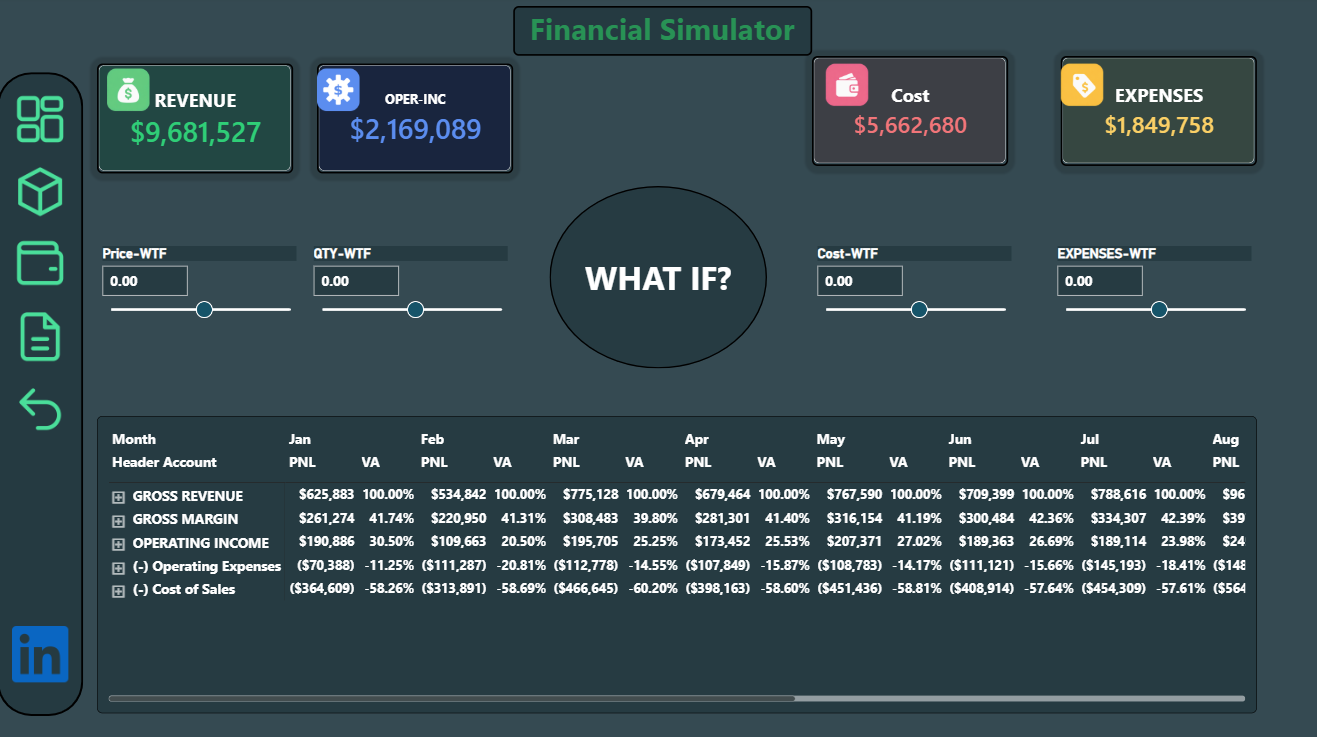

This screenshot's page, from the dashboard's own definition file:
{"tool":"powerbi","page":{"name":"Financial Simulator","canvas":[1920,1080],"ordinal":4},"visuals":[{"type":"pivotTable","fields":{"Columns":["Calendar.Month"],"Rows":["dAccountHeader.Header Account","dAccount.Subheader Account","dAccount.Detailed Account"],"Values":["ExpensesAnalysis Measures.PNL","ExpensesAnalysis Measures.VA"]},"box":[144.8,608,1679.4,430.7],"z":0},{"type":"slicer","fields":{"Values":["Price-WTF.Price-WTF"]},"box":[144.8,361.9,296.8,150.2],"z":1000},{"type":"slicer","fields":{"Values":["QTY-WTF.QTY-WTF"]},"box":[450.6,361.9,296.8,150.2],"z":2000},{"type":"slicer","fields":{"Values":["Cost-WTF.Cost-WTF"]},"box":[1179.9,361.9,296.8,150.2],"z":3000},{"type":"slicer","fields":{"Values":["EXPENSES-WTF.EXPENSES-WTF"]},"box":[1527.4,361.9,296.8,150.2],"z":4000},{"type":"shape","box":[799.9,275.1,314.9,264.2],"z":5000},{"type":"cardVisual","fields":{"Data":["WTF-CAL.OPER-INCEOME-WTF"]},"box":[463.3,97.7,284.1,159.3],"z":6000},{"type":"cardVisual","fields":{"Data":["WTF-CAL.Cost-WTF"]},"box":[1179.9,86.9,284.1,159.3],"z":7000},{"type":"cardVisual","fields":{"Data":["WTF-CAL.REVENUE-WTF"]},"box":[144.8,97.7,284.1,159.3],"z":8000},{"type":"cardVisual","fields":{"Data":["WTF-CAL.EXPENSES-WTF"]},"box":[1540,86.9,284.1,159.3],"z":9000},{"type":"image","box":[159.3,105,61.5,61.5],"z":10000},{"type":"image","box":[463.3,105,61.5,61.5],"z":11000},{"type":"image","box":[1199.1,97,61.5,61.5],"z":12000},{"type":"image","box":[1540,97.7,61.5,61.5],"z":13000},{"type":"shape","box":[0,110.4,124.9,932],"z":14000},{"type":"image","box":[21.7,912.1,81.4,81.4],"z":15000},{"type":"image","box":[21.7,137.5,81.4,81.4],"z":16000},{"type":"image","box":[21.7,242.5,81.4,81.4],"z":17000},{"type":"image","box":[21.7,347.5,81.4,81.4],"z":18000},{"type":"image","box":[21.7,452.4,81.4,81.4],"z":19000},{"type":"image","box":[21.7,557.4,81.4,81.4],"z":20000},{"type":"textbox","box":[747.4,14.5,432.5,72.4],"z":20001}]}

Visuals, with their boxes on the page's 1920x1080 design canvas (x1, y1, x2, y2). These are canvas units, not pixel positions in the 1317x737 screenshot, which may show the page scaled, cropped or inside an application window:
pivotTable - Calendar.Month x dAccountHeader.Header Account: (left=145, top=608, right=1824, bottom=1039)
slicer - Price-WTF.Price-WTF: (left=145, top=362, right=442, bottom=512)
slicer - QTY-WTF.QTY-WTF: (left=451, top=362, right=747, bottom=512)
slicer - Cost-WTF.Cost-WTF: (left=1180, top=362, right=1477, bottom=512)
slicer - EXPENSES-WTF.EXPENSES-WTF: (left=1527, top=362, right=1824, bottom=512)
shape: (left=800, top=275, right=1115, bottom=539)
cardVisual - WTF-CAL.OPER-INCEOME-WTF: (left=463, top=98, right=747, bottom=257)
cardVisual - WTF-CAL.Cost-WTF: (left=1180, top=87, right=1464, bottom=246)
cardVisual - WTF-CAL.REVENUE-WTF: (left=145, top=98, right=429, bottom=257)
cardVisual - WTF-CAL.EXPENSES-WTF: (left=1540, top=87, right=1824, bottom=246)
image: (left=159, top=105, right=221, bottom=166)
image: (left=463, top=105, right=525, bottom=166)
image: (left=1199, top=97, right=1261, bottom=158)
image: (left=1540, top=98, right=1602, bottom=159)
shape: (left=0, top=110, right=125, bottom=1042)
image: (left=22, top=912, right=103, bottom=994)
image: (left=22, top=138, right=103, bottom=219)
image: (left=22, top=242, right=103, bottom=324)
image: (left=22, top=348, right=103, bottom=429)
image: (left=22, top=452, right=103, bottom=534)
image: (left=22, top=557, right=103, bottom=639)
textbox: (left=747, top=14, right=1180, bottom=87)
